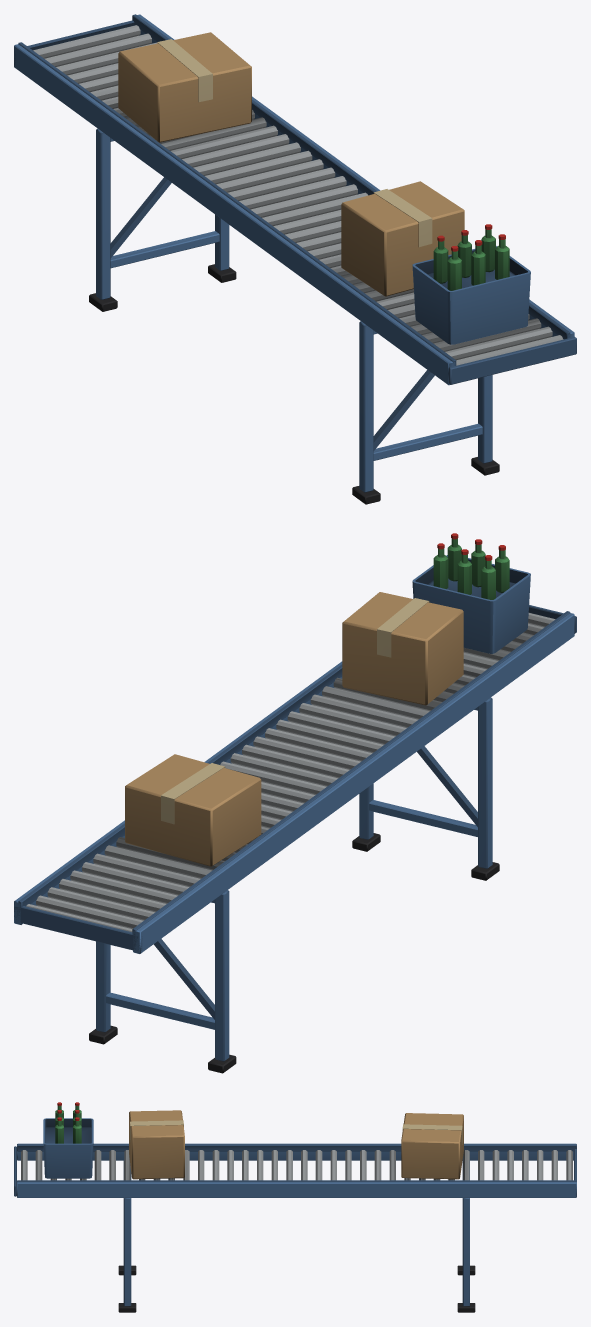
The model's file is DeliveryConveyor.fbx.
3 renders of one model, top to bottom at view 1: azimuth 30°, elevation 25°; view 2: azimuth 150°, elevation 25°; view 3: azimuth 270°, elevation 25°, orthographic. The views are drawn at different scales.
Visible parts, largest first — view 1: DeliveryConveyor; view 2: DeliveryConveyor; view 3: DeliveryConveyor.
Boxes of the visible parts, left/top/right/bottom form: DeliveryConveyor: left=14, top=14, right=576, bottom=504; DeliveryConveyor: left=14, top=533, right=576, bottom=1073; DeliveryConveyor: left=14, top=1102, right=576, bottom=1312.
Size of the model in its own units: 0.68 by 1.36 by 3.82.
